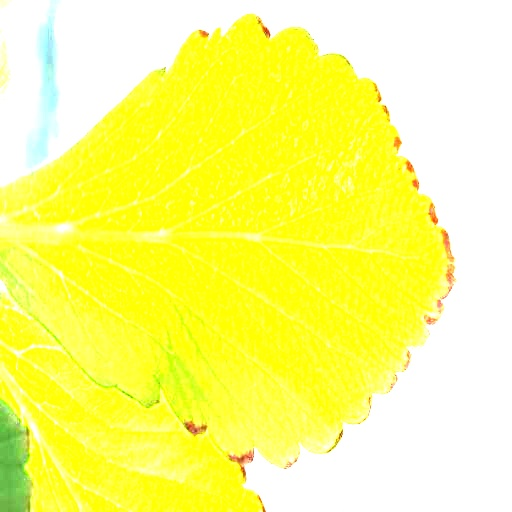Angular Leafspot: (156, 25, 381, 233)
